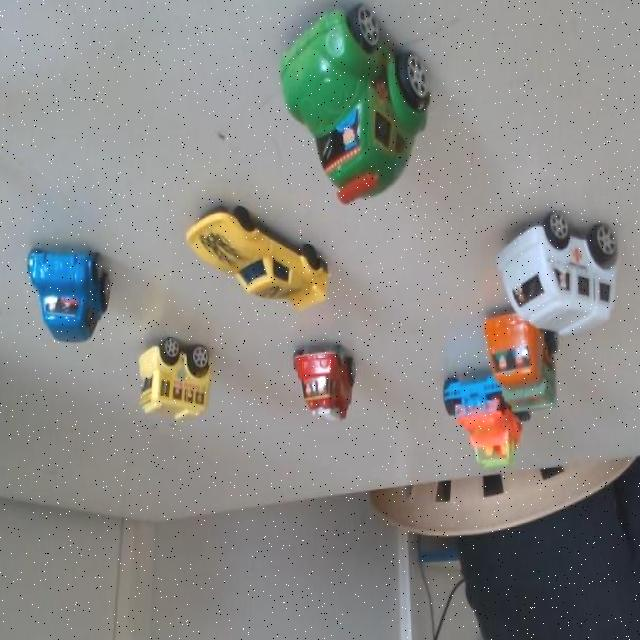car: (265, 0, 435, 205), (483, 189, 619, 358), (191, 197, 323, 319), (134, 324, 221, 423), (26, 241, 104, 344), (292, 328, 366, 433), (438, 376, 516, 475), (488, 306, 554, 422)
